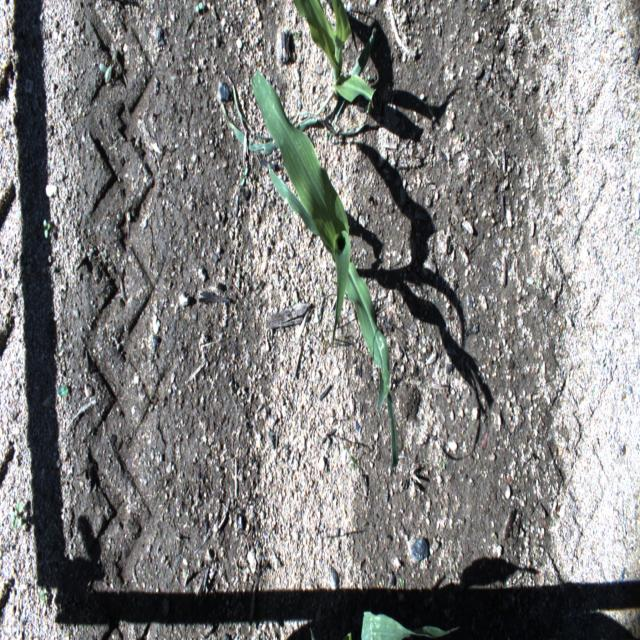crop: (252, 69, 398, 464), (217, 0, 376, 152), (362, 610, 458, 639)
weed: (12, 498, 24, 531), (35, 582, 49, 601), (58, 384, 72, 396), (240, 168, 247, 184), (45, 221, 51, 239), (439, 456, 445, 472), (341, 632, 353, 639), (398, 576, 405, 588), (316, 285, 321, 298), (350, 457, 356, 463)
